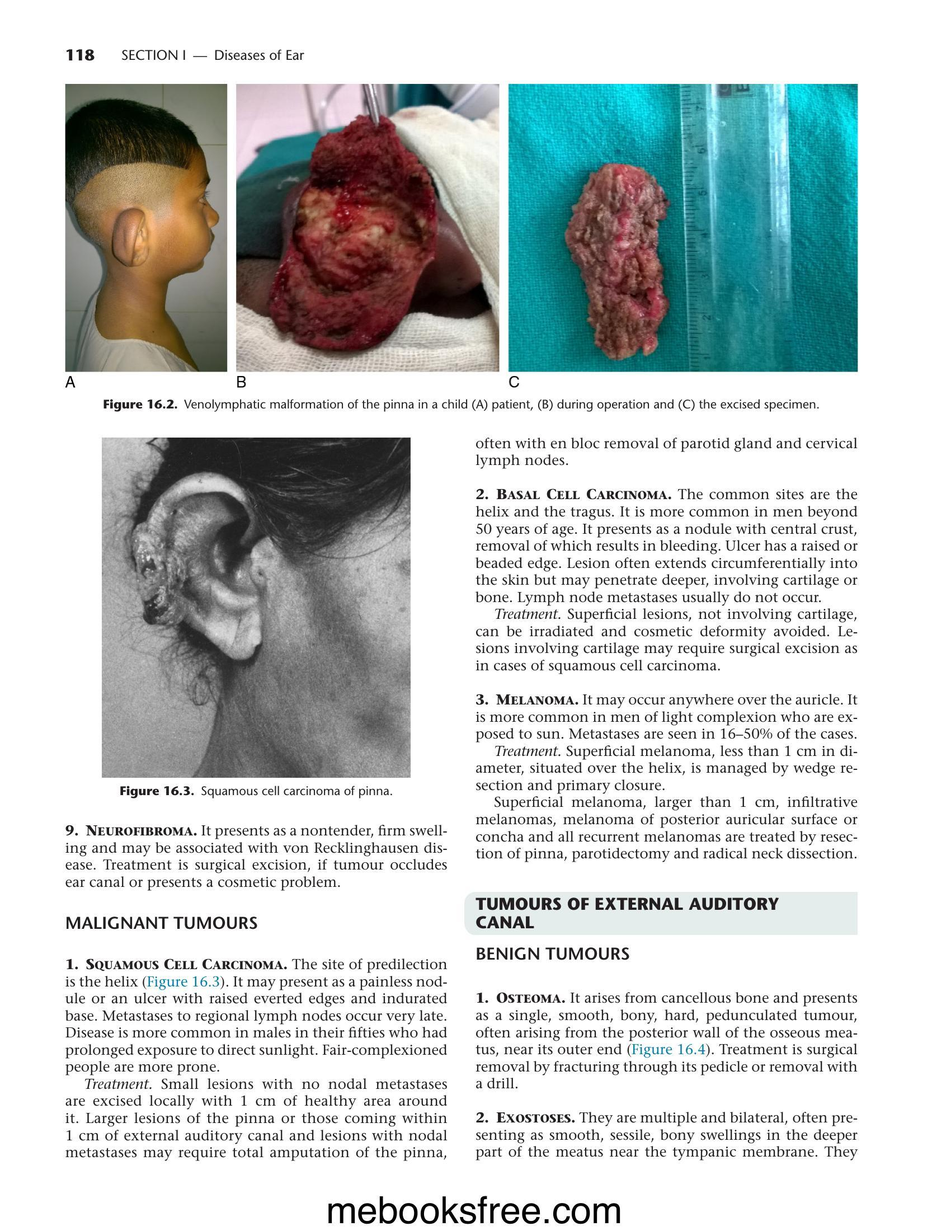caption: (101, 397, 820, 413), (118, 784, 393, 800), (508, 374, 521, 390), (236, 375, 248, 389), (65, 375, 76, 389)
header: (121, 48, 306, 62)
image: (101, 435, 411, 779), (508, 84, 857, 372), (235, 84, 500, 370), (64, 84, 228, 372)
list: (473, 486, 859, 864), (63, 957, 449, 1163), (473, 989, 858, 1162), (65, 822, 448, 893)
section-heading: (473, 895, 780, 931)
sub-section-heading: (65, 914, 259, 931), (476, 945, 631, 961)
